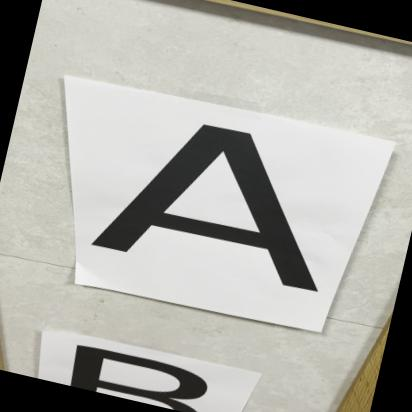seat: (65, 86, 388, 320)
